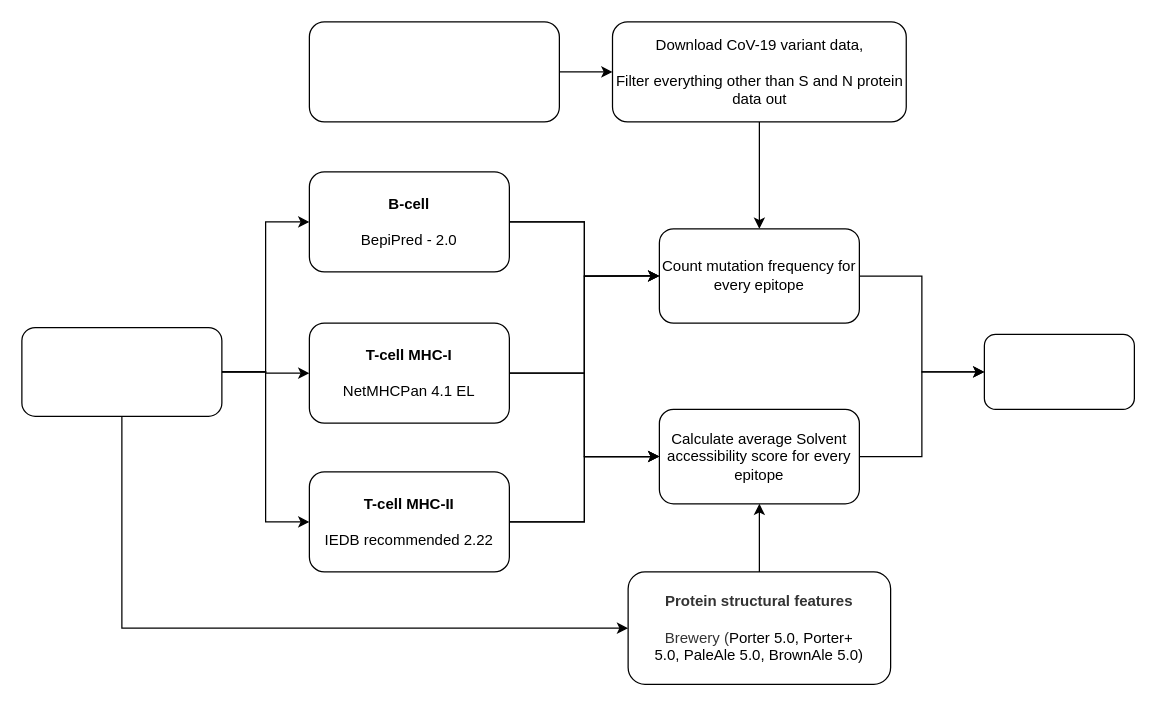
The diagram is 1156 pixels wide and 706 high, and some of its shapes have lost their labels. The shapes that lost their labels are listed below. From the top down, each one's centre as x and y in pixels, then its label:
point 433,71: Mutation data Nextstrain/lapis.cov-spectrum.org API ( NCBI GenBank open data)
point 121,371: reference sequence S and N prot.
point 1058,371: B and T cell epitope table .xlsx
